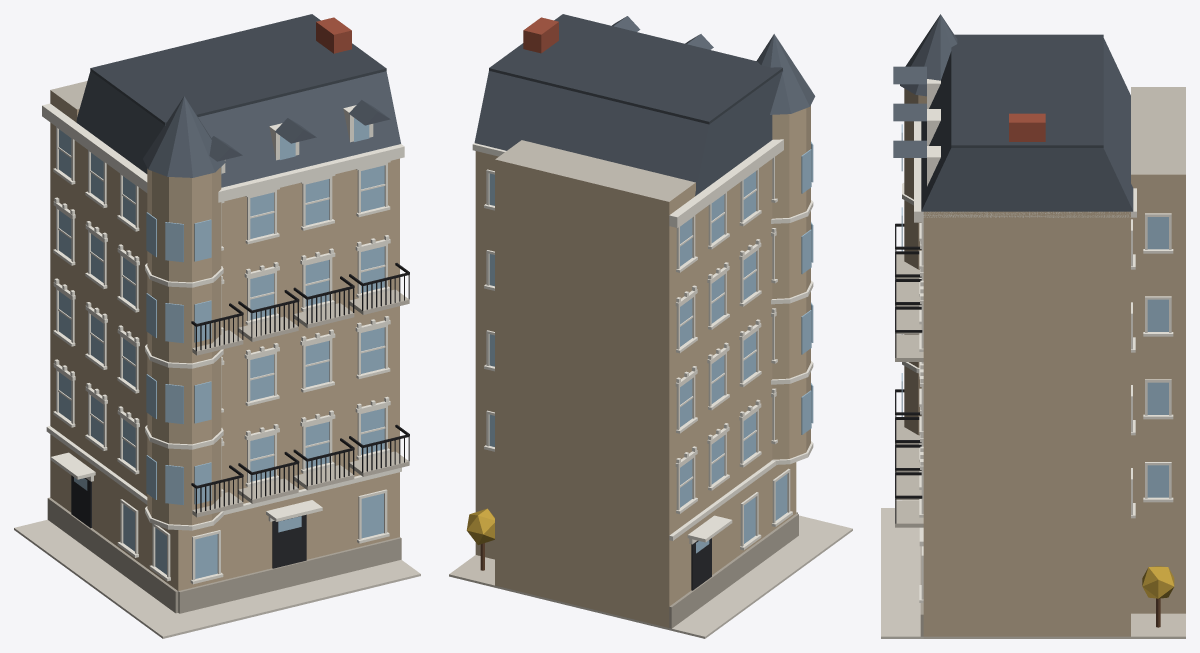
The model's file is Blok_kose_5k_3_Hafif.fbx.
3 renders of one model, left to right at view 1: azimuth 30°, elevation 25°; view 2: azimuth 150°, elevation 25°; view 3: azimuth 270°, elevation 25°, orthographic. The views are drawn at different scales.
Visible parts, largest first — view 1: Blok_kose_5k_3_Hafif; view 2: Blok_kose_5k_3_Hafif; view 3: Blok_kose_5k_3_Hafif.
Boxes of the visible parts, <box> form: Blok_kose_5k_3_Hafif: <box>14,14,420,638</box>; Blok_kose_5k_3_Hafif: <box>449,14,852,638</box>; Blok_kose_5k_3_Hafif: <box>881,14,1185,638</box>.
Bounding box in the file's own units: 10 × 18.88 × 10.
